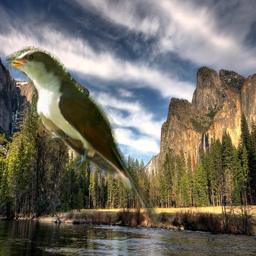Cuckoo: (6, 45, 162, 224)
